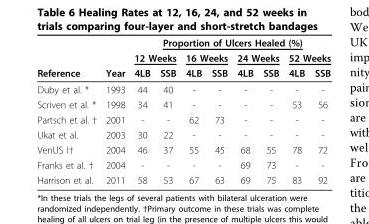table: (36, 36, 330, 185)
table column: (36, 36, 100, 185), (100, 36, 129, 185), (154, 36, 180, 185), (180, 36, 206, 185), (231, 36, 257, 185), (257, 36, 283, 185), (283, 36, 309, 185), (129, 36, 154, 185), (206, 36, 231, 185), (309, 36, 330, 185)
table column header: (36, 36, 330, 80)
table row: (36, 64, 330, 80), (36, 80, 330, 96), (36, 141, 330, 157), (36, 49, 330, 64), (36, 96, 330, 111), (36, 111, 330, 126), (36, 126, 330, 141), (36, 157, 330, 172), (36, 36, 330, 49), (36, 172, 330, 185)
table spanning cell: (36, 36, 100, 80), (129, 36, 330, 49), (100, 36, 129, 80), (231, 49, 283, 64), (129, 49, 180, 64), (180, 49, 231, 64), (283, 49, 330, 64)
